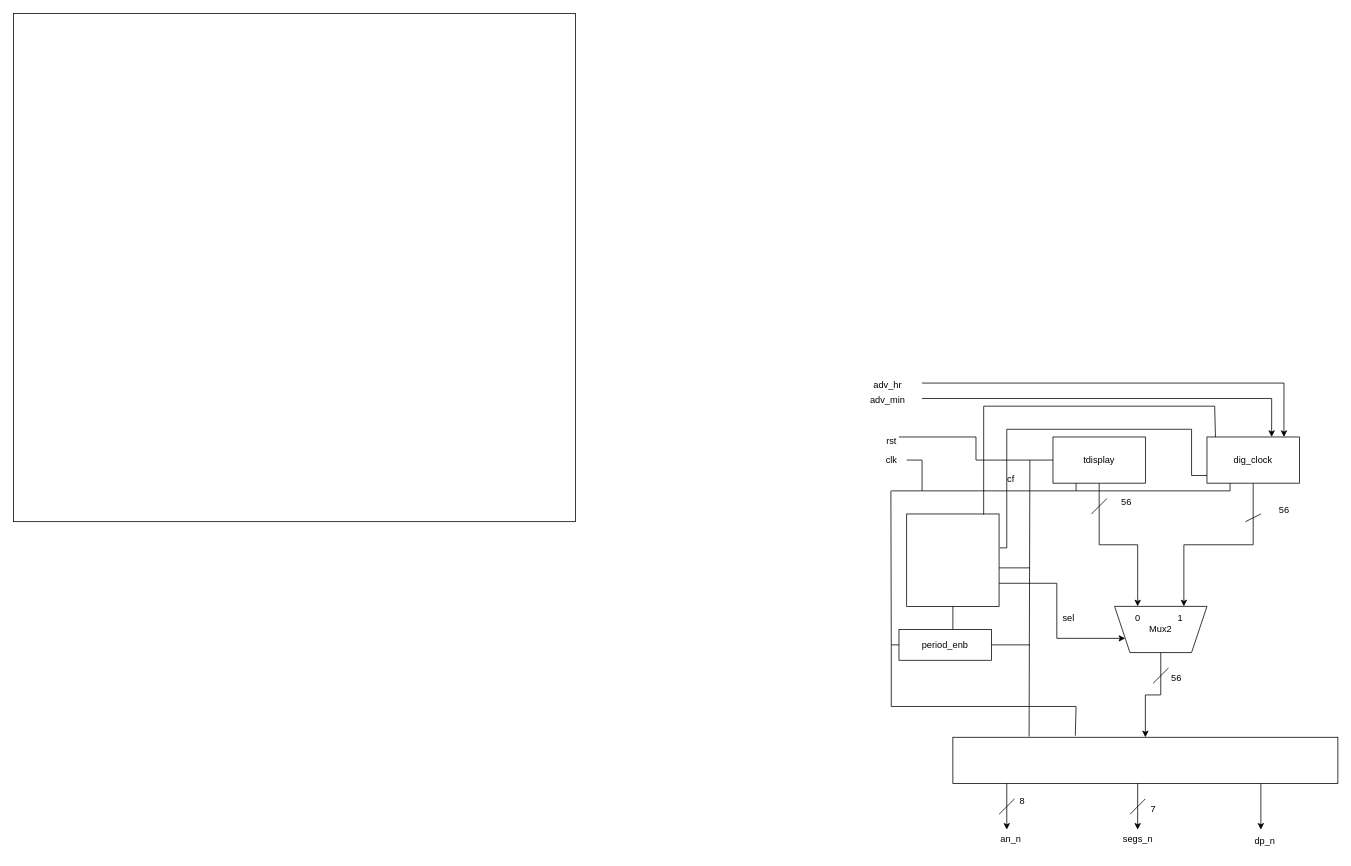
Image size: 1351x866. Some labels were removed from this diagram. The centre of each missing label's shape, as x and y in pixels:
FSM: [952,559]
sevenseg_ctl: [1145,760]
